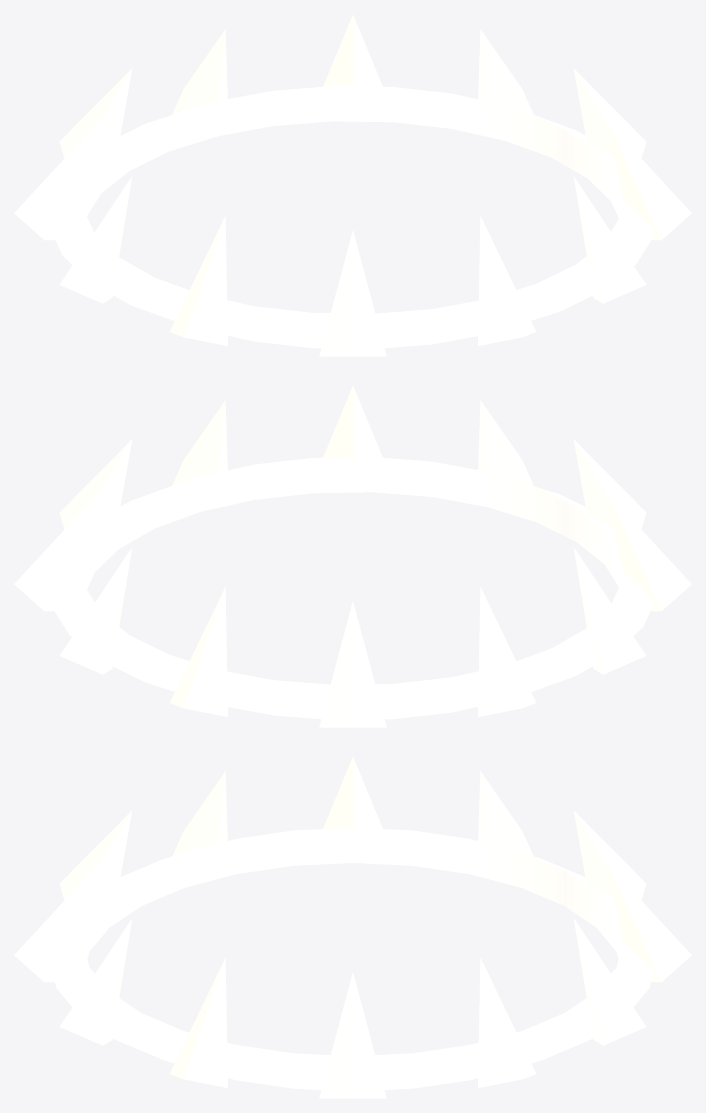
Rendered from fx_boss_rage.glb.
3 renders of one model, top to bottom at view 1: azimuth 30°, elevation 25°; view 2: azimuth 150°, elevation 25°; view 3: azimuth 270°, elevation 25°, orthographic.
Visible parts, largest first — view 1: body_glow; view 2: body_glow; view 3: body_glow.
Boxes of the visible parts, bbox=[...] form: body_glow: bbox=[14, 15, 691, 356]; body_glow: bbox=[14, 386, 691, 727]; body_glow: bbox=[14, 757, 691, 1098].
Bounding box in the file's own units: 2.41 × 0.4586 × 2.41.
